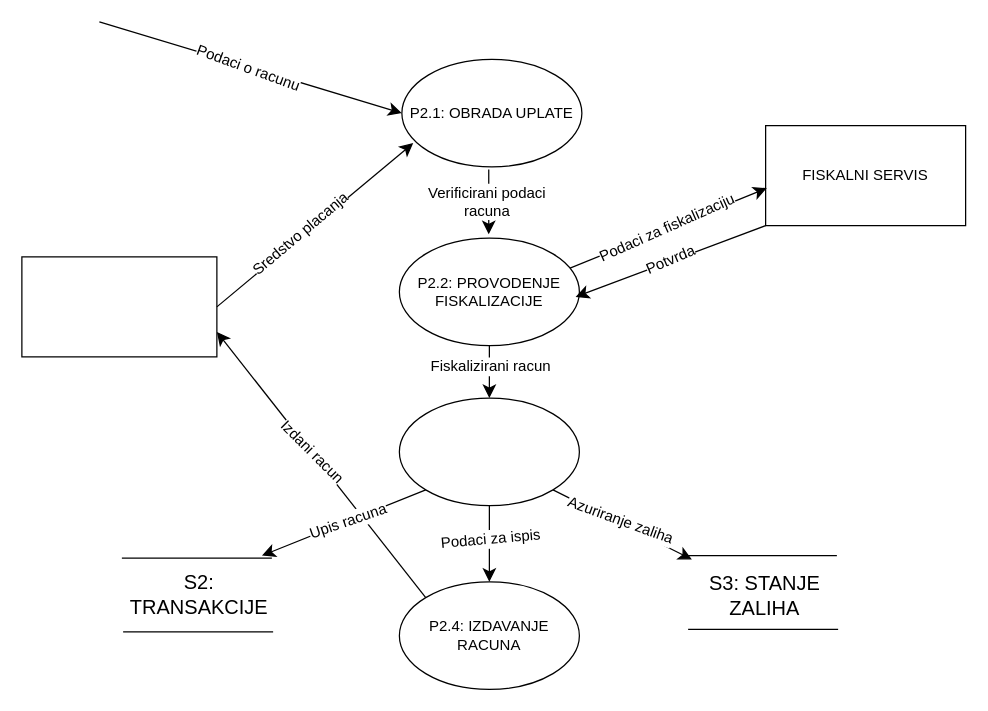
This 988x711 diagram has some shape labels left out. Each missing label, with the box of its shape:
KUPAC: (21, 256, 217, 357)
P2.3: KNJIZENJE TRANSAKCIJE: (398, 397, 579, 506)
